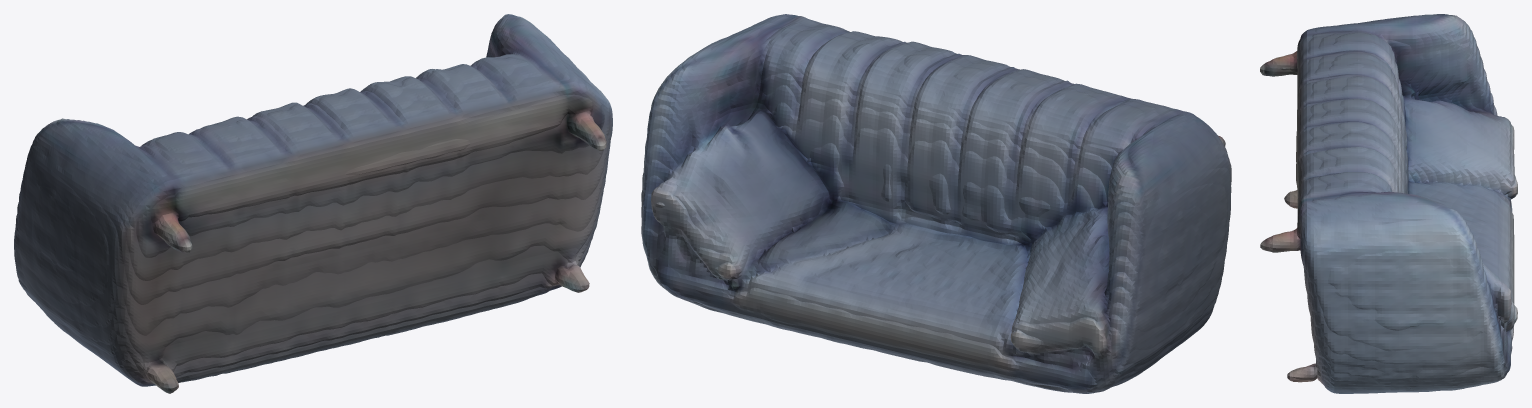
File: faro-fabric-2-seater-sofa-blue.glb
The picture shows the model from 3 angles, left to right: view 1: azimuth 30°, elevation 25°; view 2: azimuth 150°, elevation 25°; view 3: azimuth 270°, elevation 25°; orthographic projection. The views are drawn at different scales.
Parts seen in each view (by area): view 1: orient; view 2: orient; view 3: orient.
Boxes of the visible parts, left/top/right/bottom form: orient: left=14, top=14, right=612, bottom=393; orient: left=641, top=14, right=1231, bottom=393; orient: left=1260, top=14, right=1517, bottom=393.
Size of the model in its own units: 1.6 by 0.725 by 0.81.
